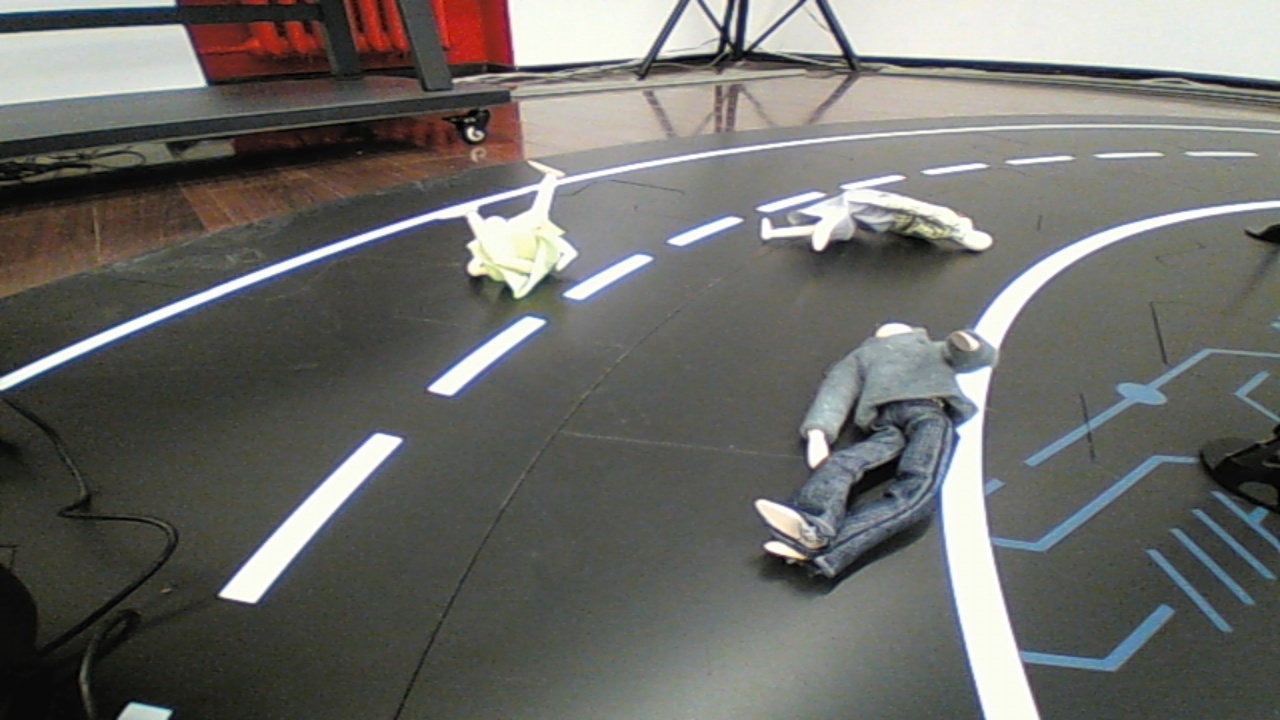Road works: (709, 310, 1024, 589), (737, 169, 1011, 265), (420, 157, 596, 296)
